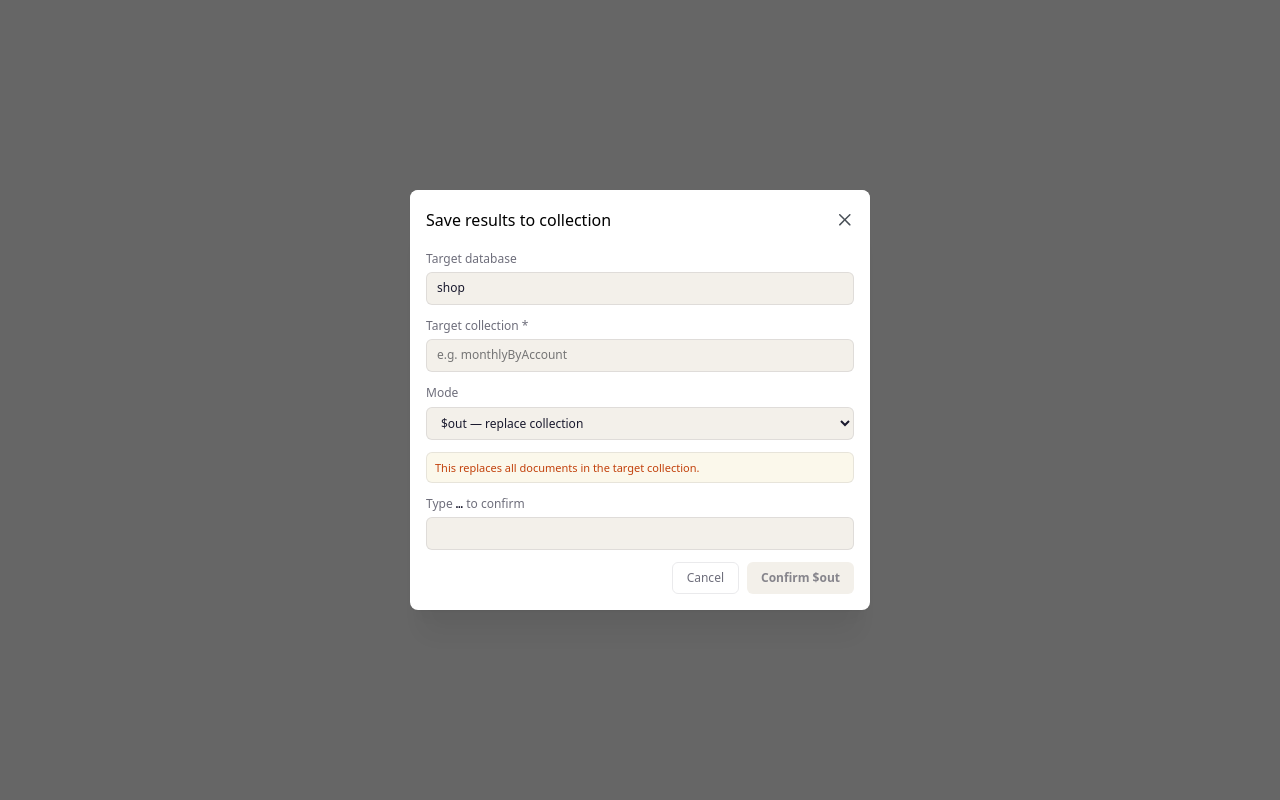
Test: SaveAsCollectionModal — dialog shell + guard (X15 T6) › switching the write mode counts as dirty
Select "$merge — merge by _id" in the dropdown labelled "Mode" at (640, 423), box x1=426 y1=407 x2=854 y2=440
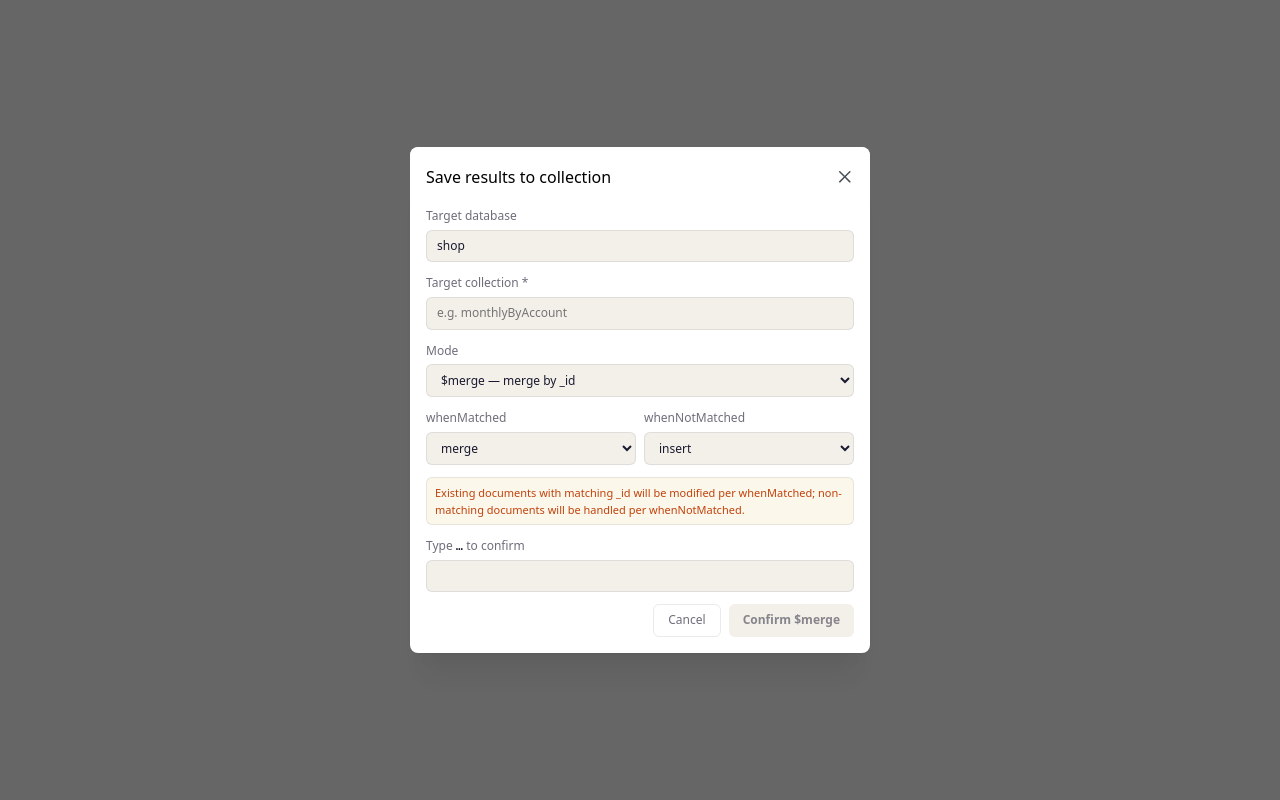
Click the button "Cancel" at (687, 620), box x1=653 y1=604 x2=721 y2=637
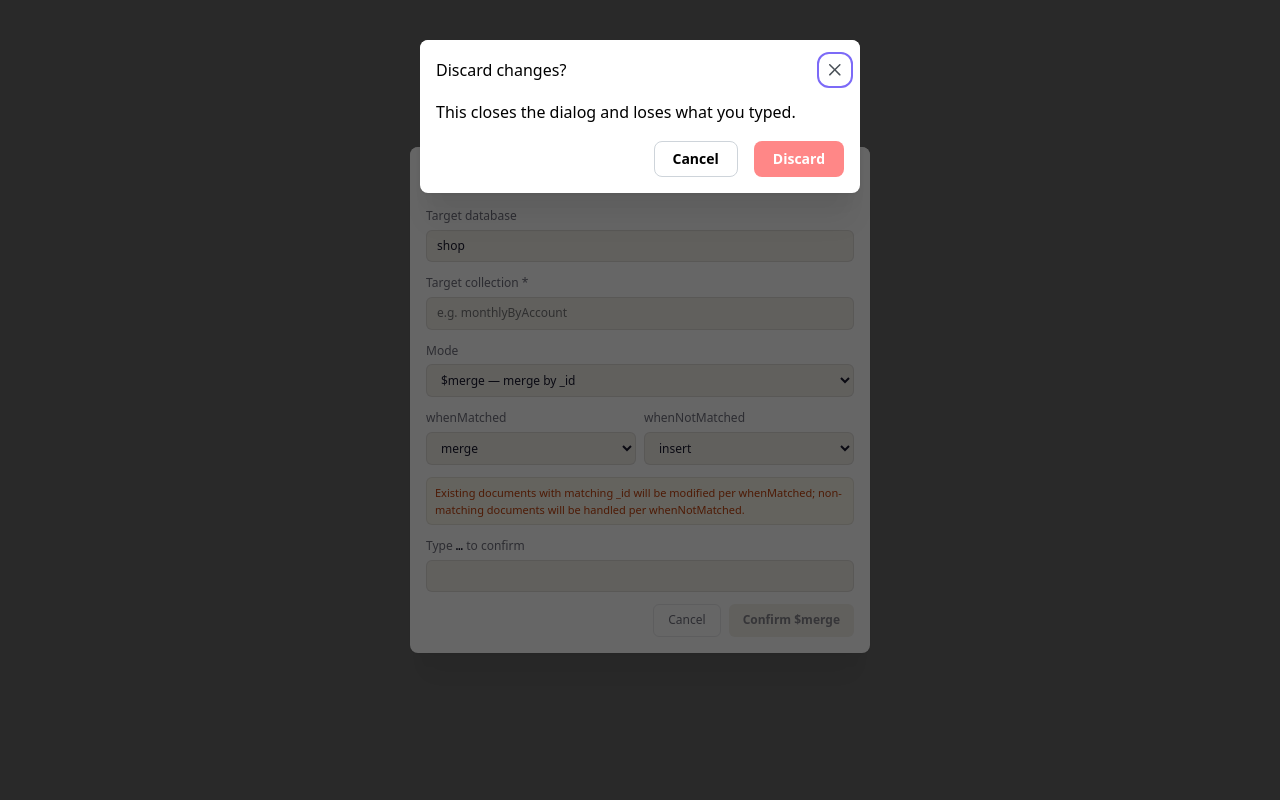
Result: the dialog "Discard changes?" is shown at x1=420 y1=40 x2=860 y2=193
